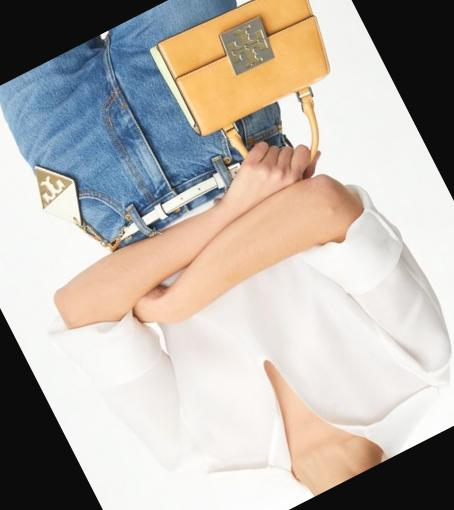TORY-BURCH: (220, 19, 272, 72)
